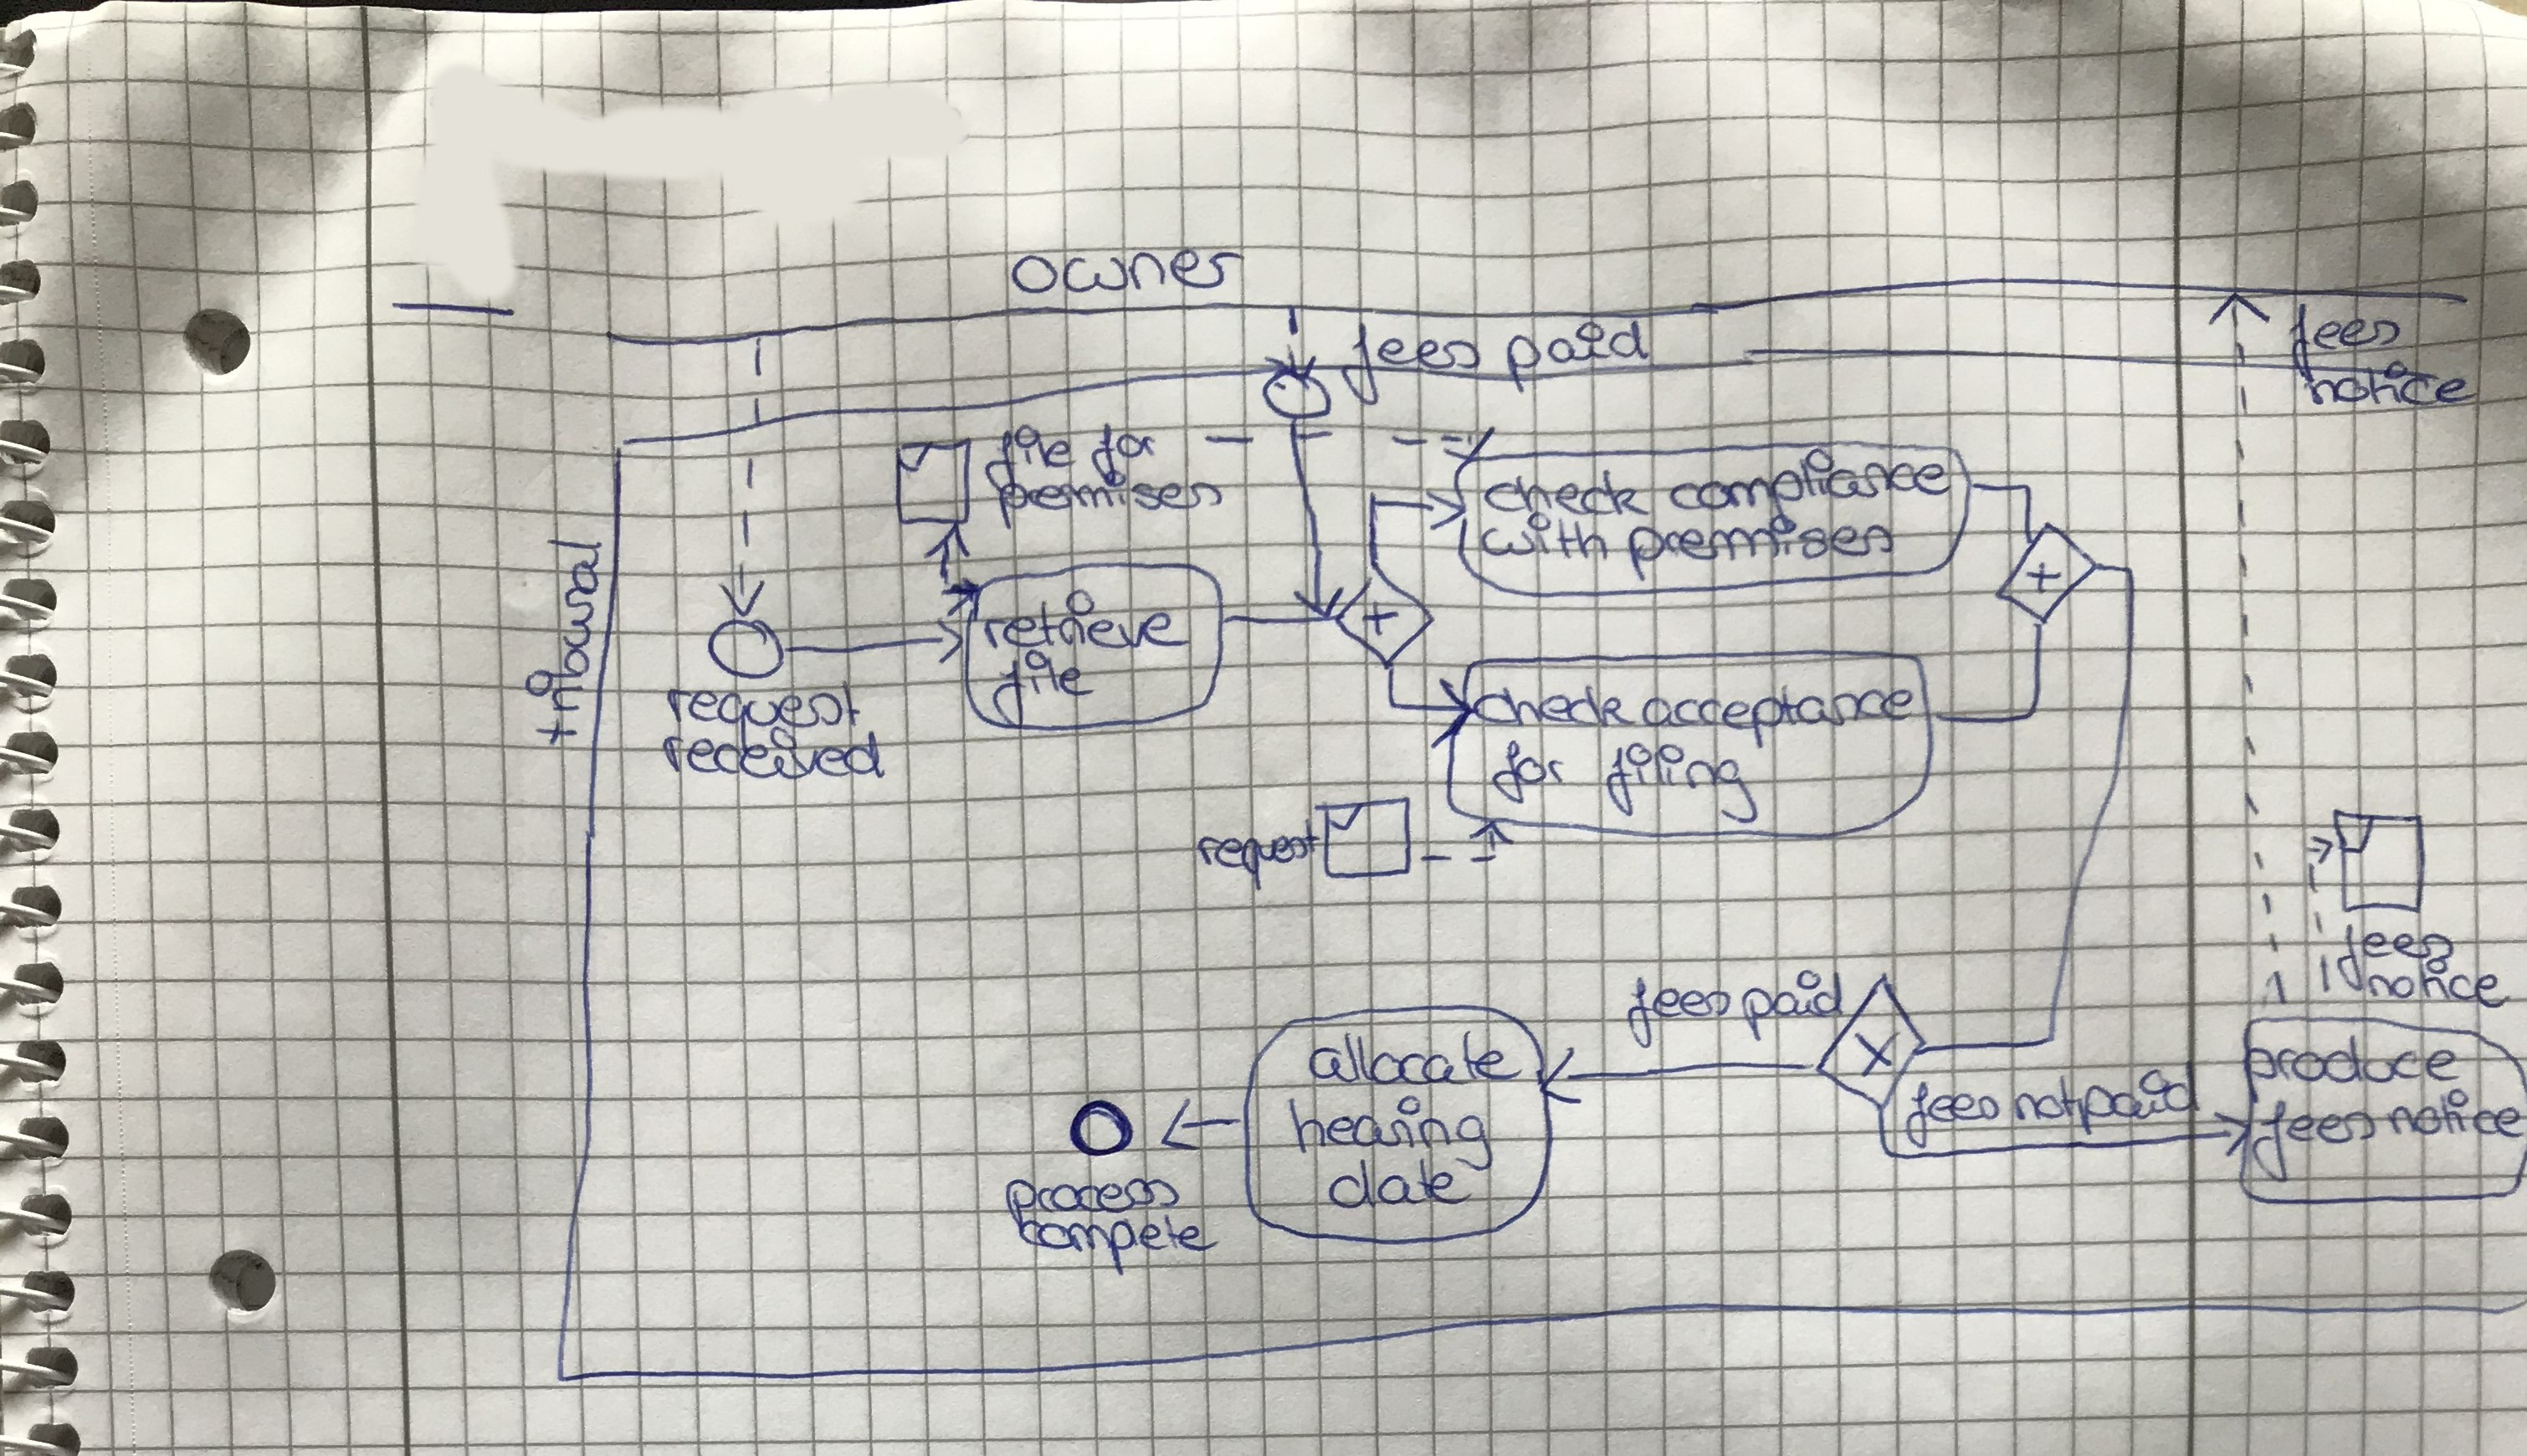acceptance: (1638, 679, 1920, 753)
allocate: (1302, 1027, 1527, 1092)
check: (1477, 463, 1659, 521), (1468, 675, 1642, 734)
complete: (1012, 1208, 1225, 1281)
compliance: (1663, 443, 1961, 538)
date: (1321, 1154, 1479, 1217)
fees: (1335, 316, 1489, 411), (2246, 1097, 2381, 1189), (2281, 298, 2409, 389), (2331, 916, 2461, 996), (1623, 972, 1736, 1055), (1899, 1078, 2006, 1152)
file: (986, 644, 1100, 731), (979, 422, 1083, 503)
filing: (1600, 738, 1765, 830)
for: (1487, 734, 1571, 809), (1085, 418, 1165, 491)
hearing: (1284, 1092, 1498, 1177)
not: (2010, 1067, 2084, 1126)
notice: (2296, 356, 2487, 411), (2362, 951, 2515, 1013), (2381, 1085, 2525, 1145)
owner: (1005, 243, 1253, 300)
paid: (1500, 312, 1657, 401), (2079, 1057, 2206, 1142), (1737, 963, 1850, 1046)
premises: (1623, 510, 1900, 587), (994, 463, 1229, 538)
process: (1000, 1175, 1185, 1239)
produce: (2239, 1031, 2466, 1109)
received: (656, 722, 890, 788)
request: (661, 673, 870, 757), (1192, 812, 1324, 899)
retrieve: (977, 585, 1196, 658)
tribunal: (517, 533, 607, 751)
with: (1474, 507, 1614, 566)
